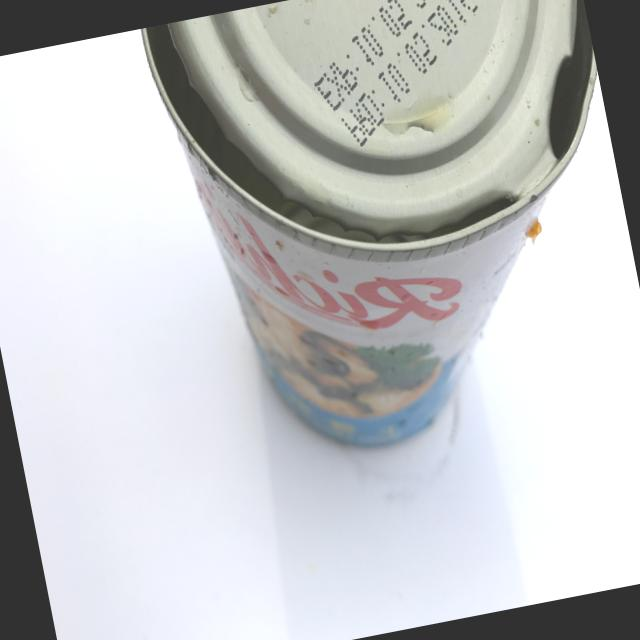Metal: (122, 0, 640, 498)
